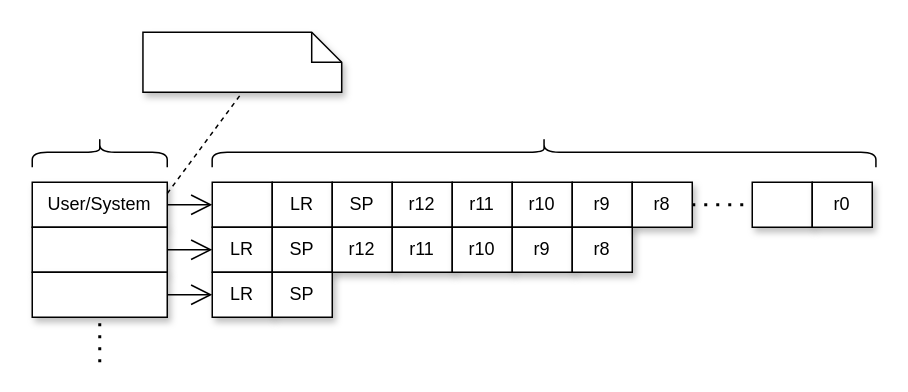
Some shapes in this 908 by 392 pixel diagram are drawn without their labels. Each missing label, with the centre of its shape:
Collection of bank registers: the point at 543,151
CPU mode: the point at 99,151
Default set used for all non-bank register: the point at 243,64
FIQ: the point at 100,251
IRQ: the point at 100,296
PC: the point at 243,206
r1: the point at 783,206
